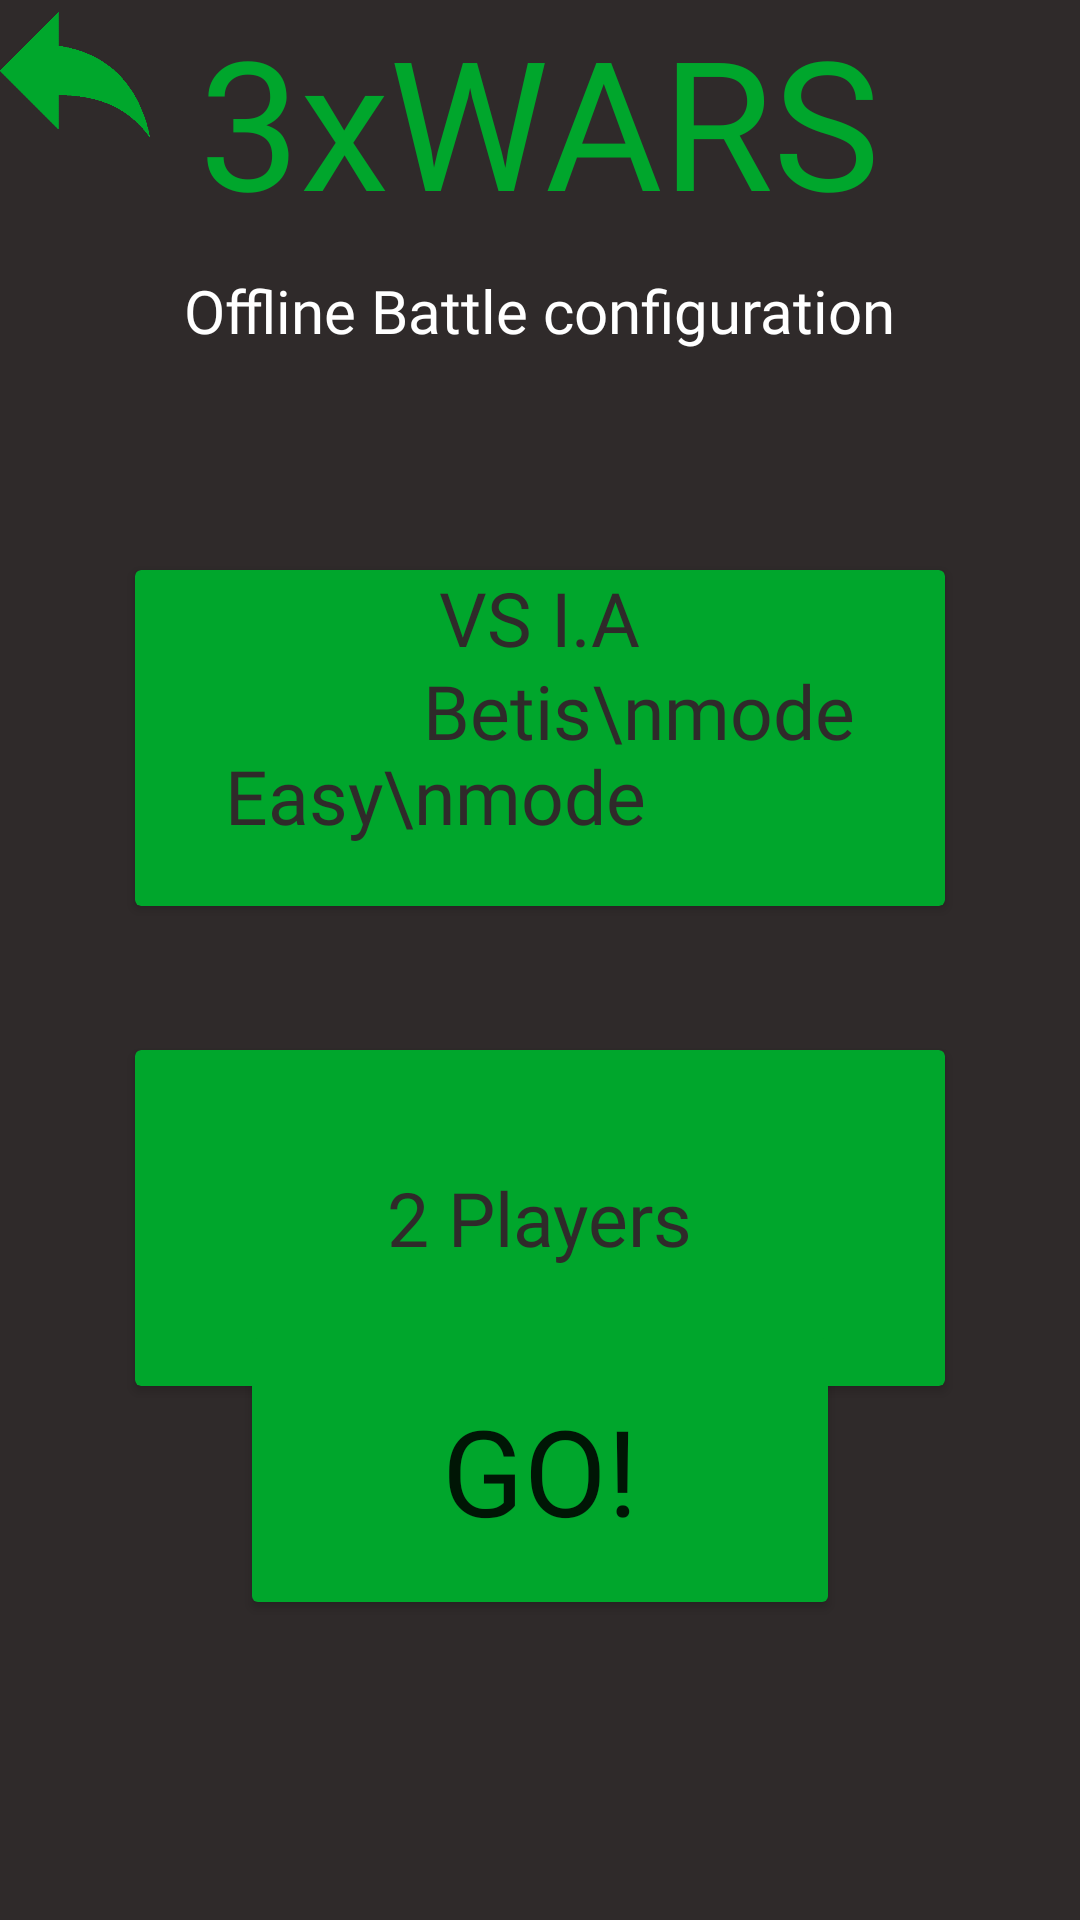

Screen size 1080 × 1920. Icon name, then its box in pixels as (x1, y1, x2, y2):
flecha: (0, 12, 150, 137)
